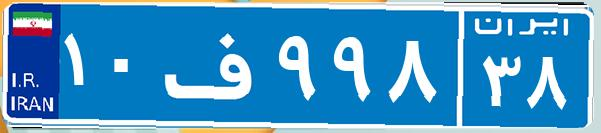0: (110, 28, 158, 105)
1: (57, 26, 110, 107)
3: (475, 38, 525, 113)
8: (385, 28, 445, 110), (525, 38, 570, 115)
9: (273, 28, 330, 110), (330, 28, 385, 110)
ف: (158, 15, 273, 115)
